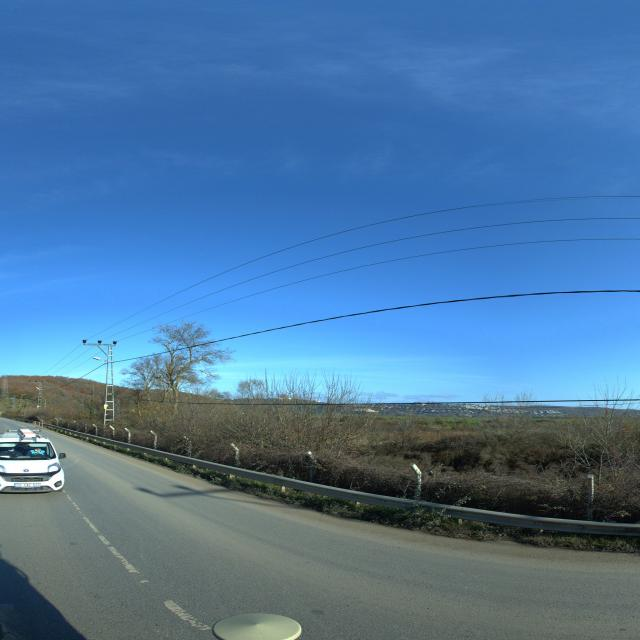Utility Pole Information Plate: (104, 406, 107, 409), (37, 407, 38, 408)
